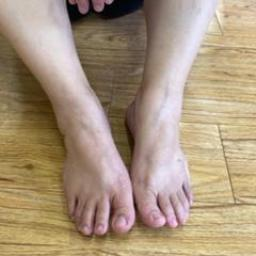Front View -Both Feet-: (35, 75, 224, 245)
